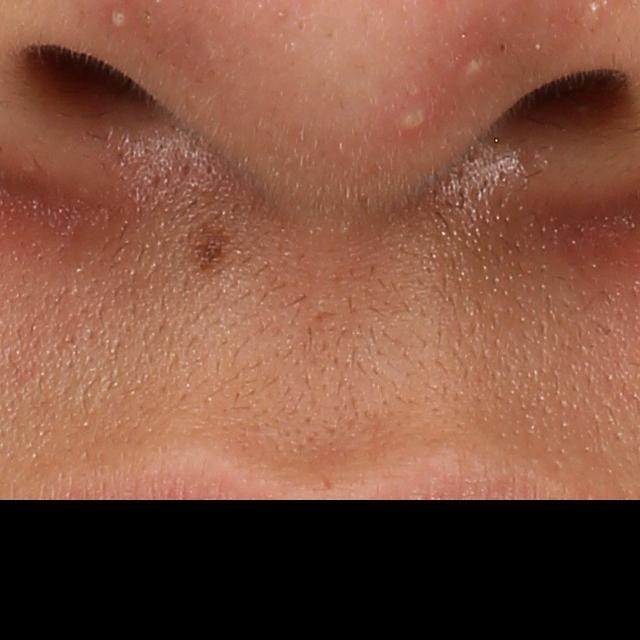nevus: (187, 205, 232, 284)
pustule: (400, 100, 433, 135), (455, 51, 485, 83), (105, 4, 130, 31)
